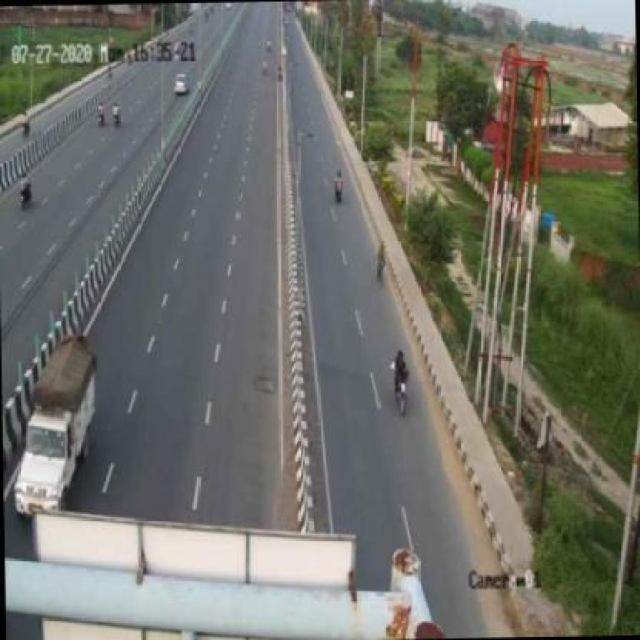car: (6, 330, 122, 512)
